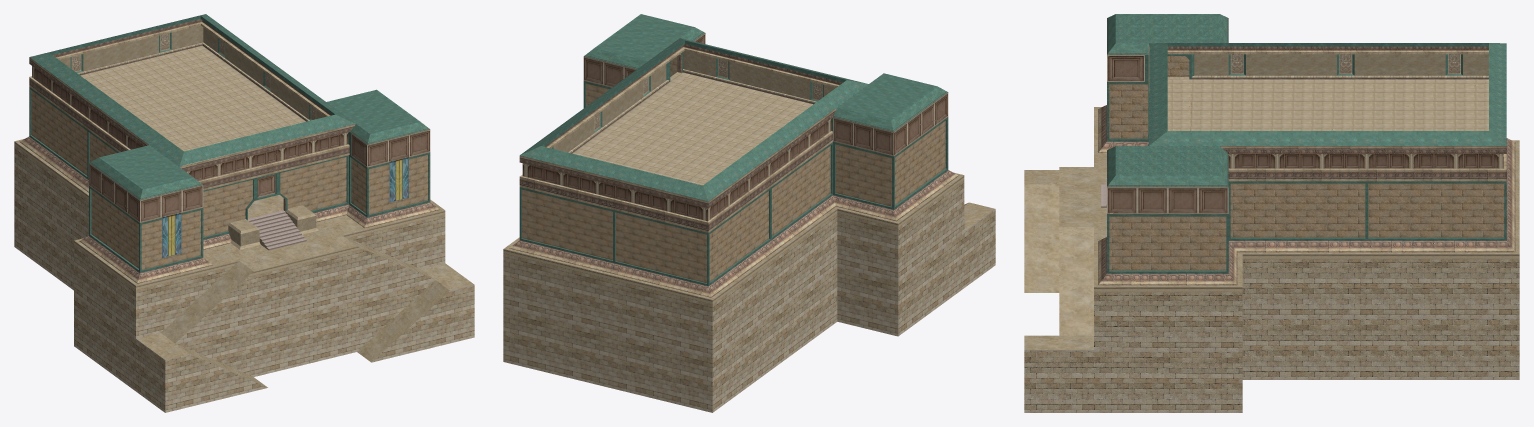
File: ply_nboo_assoc_hall_civ_s01_r0_exterior_mesh_exterior_l0.fbx
3 renders of one model, left to right at view 1: azimuth 30°, elevation 25°; view 2: azimuth 150°, elevation 25°; view 3: azimuth 270°, elevation 25°, orthographic. The views are drawn at different scales.
Parts seen in each view (by area): view 1: mesh_node; view 2: mesh_node; view 3: mesh_node.
Part boxes in pixels (<box>): mesh_node: <box>14,14,474,412</box>; mesh_node: <box>503,14,995,412</box>; mesh_node: <box>1024,14,1519,412</box>.
Size of the model in its own units: 49 by 30 by 57.
